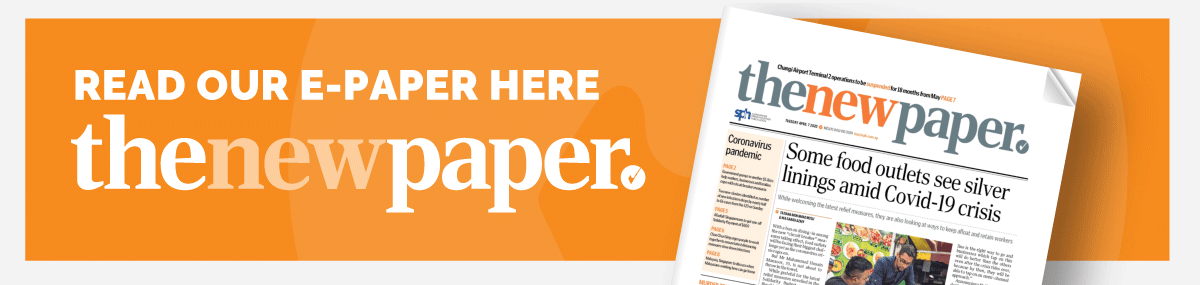news_paper: (653, 3, 1108, 285)
